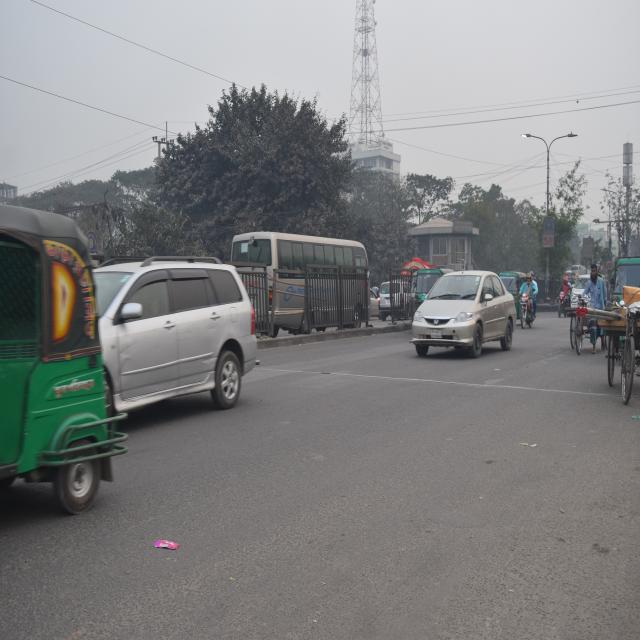bus: (242, 232, 372, 336)
car: (403, 272, 510, 352)
microbus: (90, 255, 255, 400)
pickup-van: (514, 287, 538, 344), (555, 285, 570, 316)
